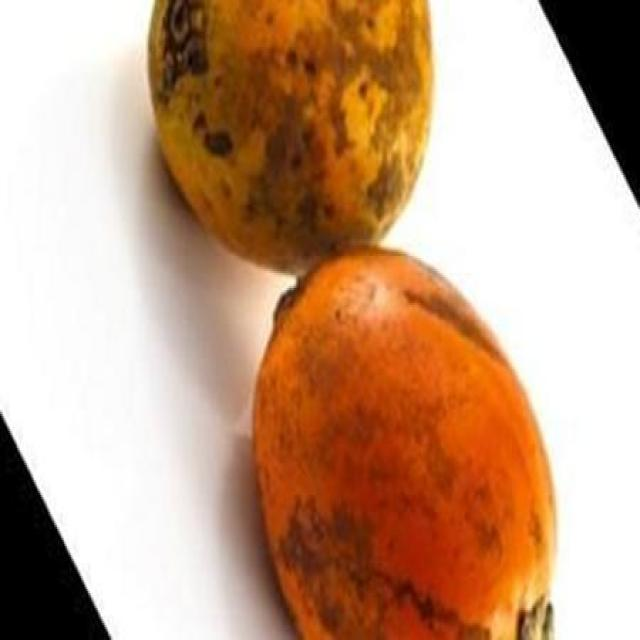good: (252, 247, 558, 638), (146, 0, 437, 284)
